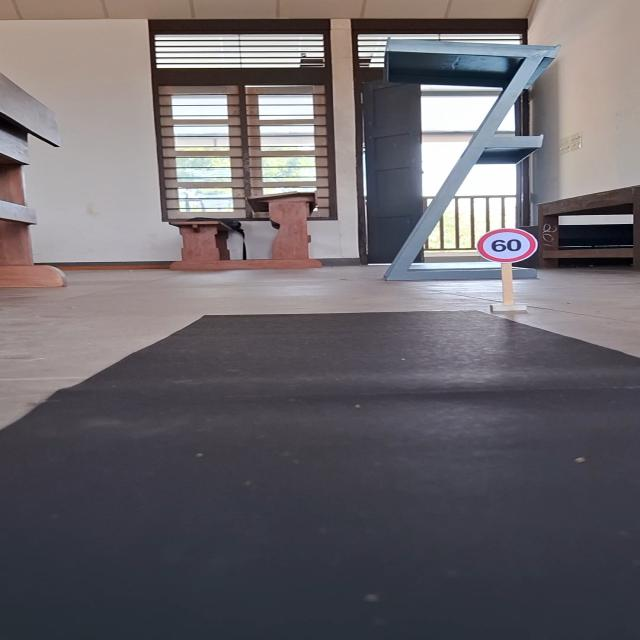Speed60: (474, 227, 538, 264)
